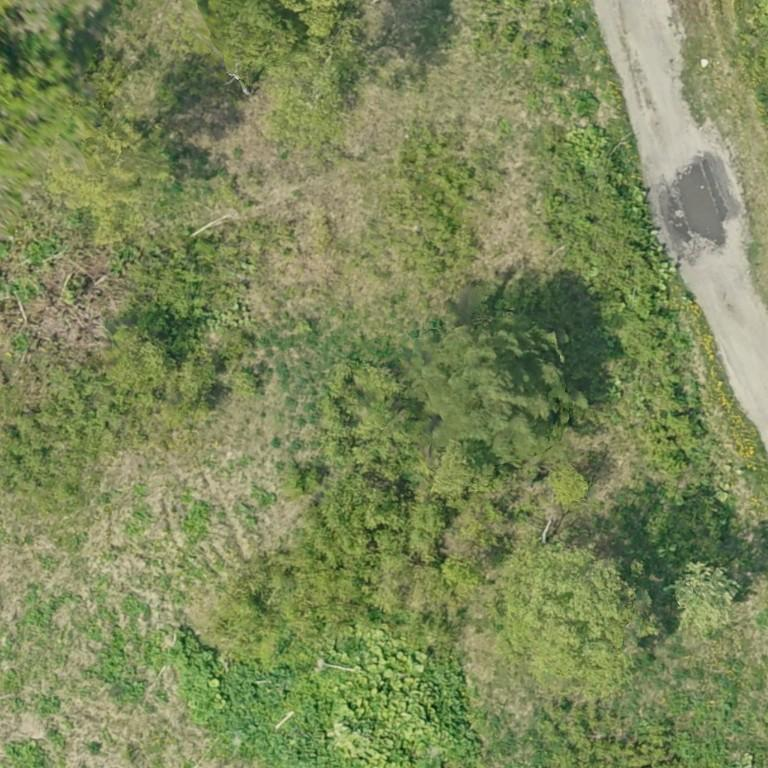hogweed: (169, 629, 349, 767), (575, 89, 598, 114)
